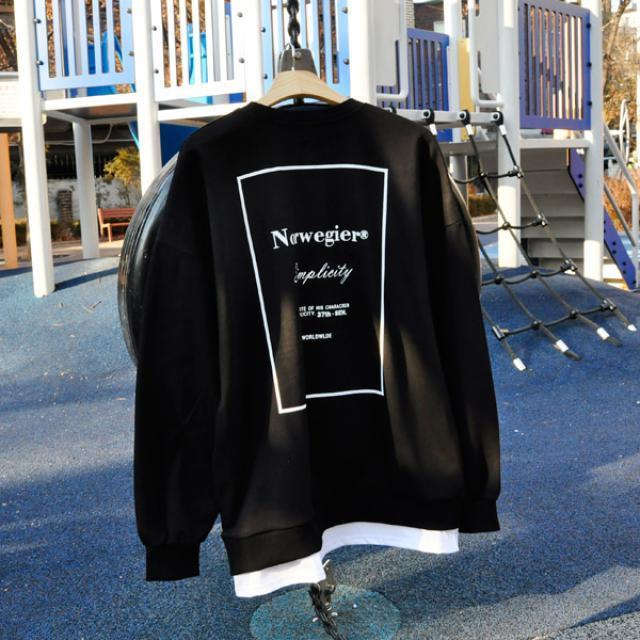short sleeve shirt: (232, 520, 464, 601)
sweater: (125, 98, 505, 585)
